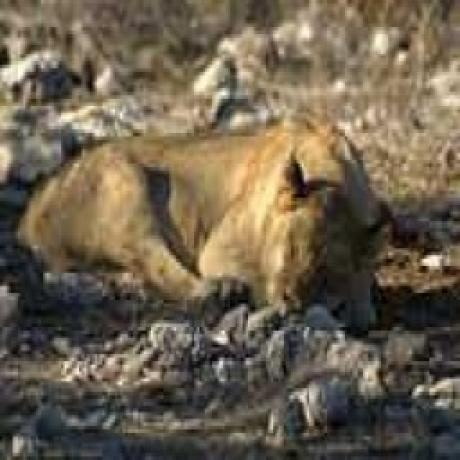Lion: (19, 109, 394, 310)
